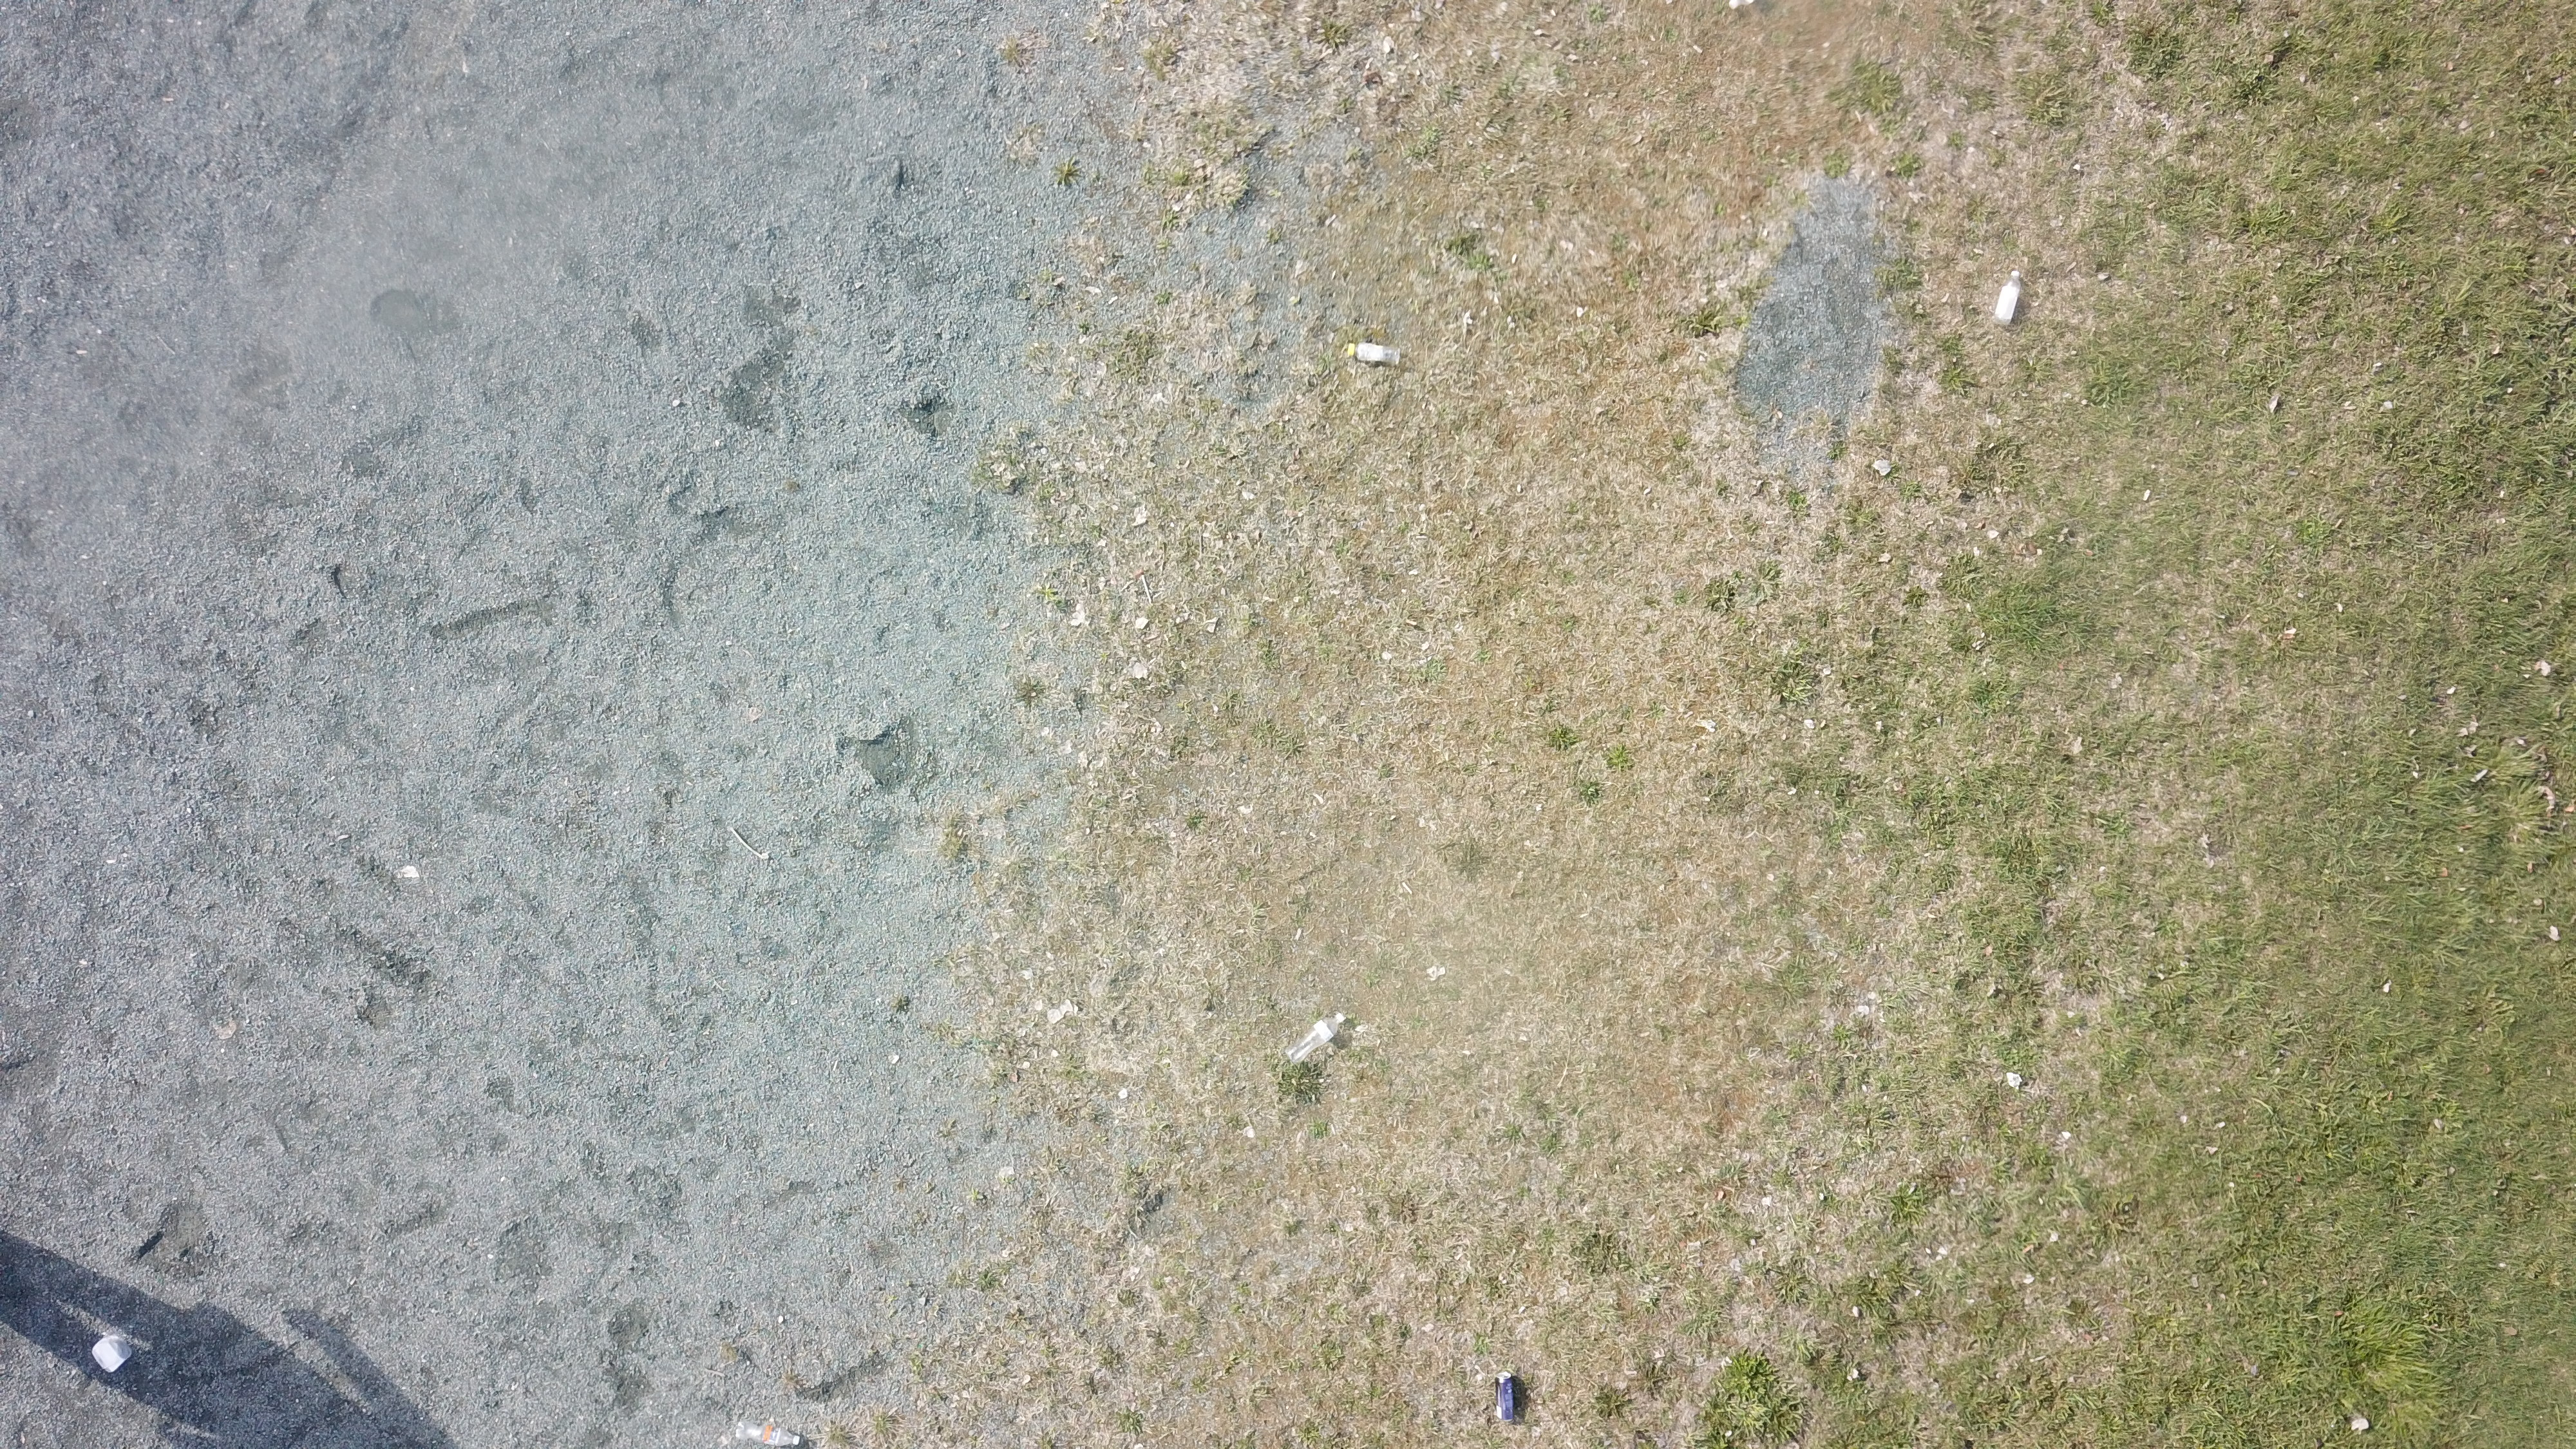Can: (1495, 1369, 1514, 1424)
Plastic: (90, 1336, 133, 1373)
PlasticBottle: (1286, 1012, 1345, 1065), (1997, 269, 2020, 327), (1345, 343, 1403, 364)
